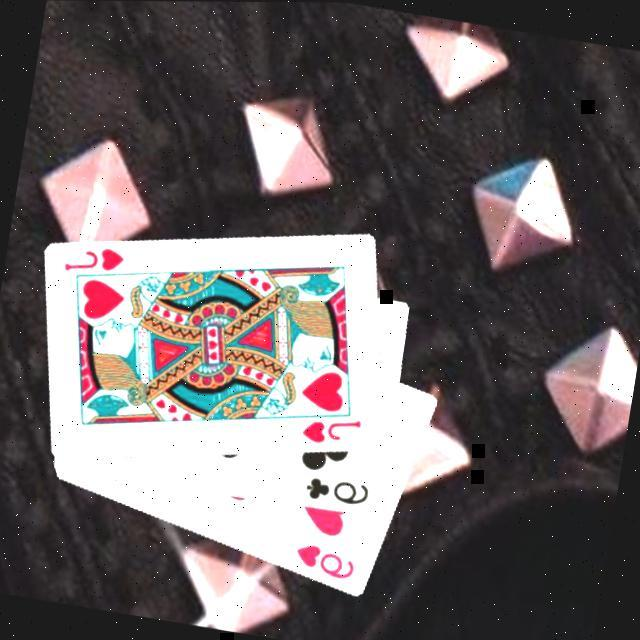6C: (304, 471, 377, 511)
6H: (292, 538, 363, 584)
JH: (299, 406, 368, 452), (63, 237, 132, 283)
